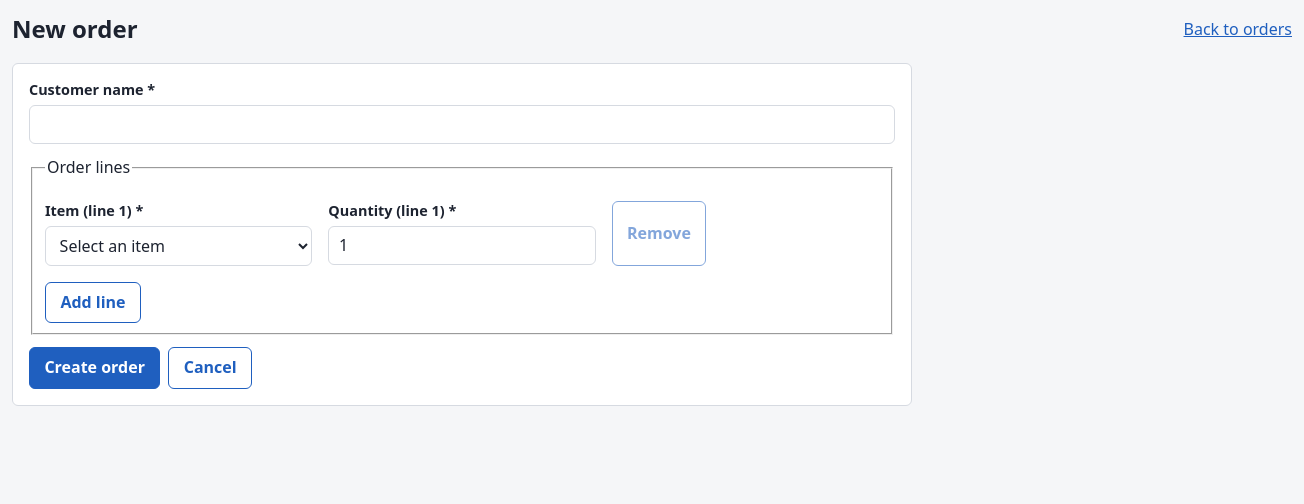
Test case: CreateOrderPage › adds and removes lines, keeping at least one line
Check: the button with aria-label "Remove line 1" is disabled, box x1=612 y1=201 x2=706 y2=266
Click the button "Add line" at (93, 303), box x1=45 y1=282 x2=141 y2=324
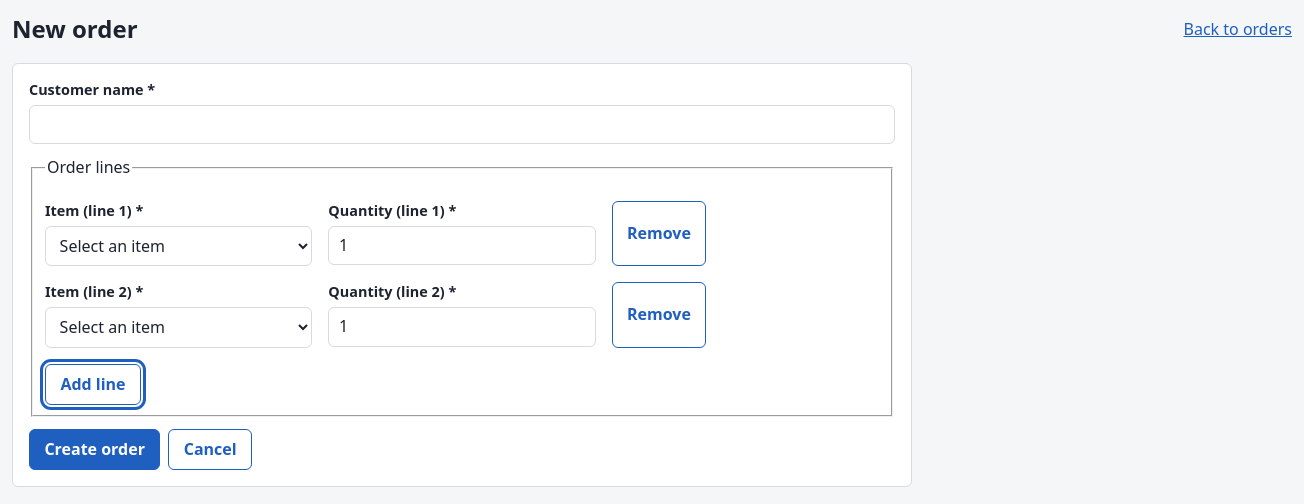
Check: the dropdown labelled "Item (line 2) *" is shown, box x1=45 y1=307 x2=312 y2=348
Click the button with aria-label "Remove line 2" at (659, 315), box x1=612 y1=282 x2=706 y2=348
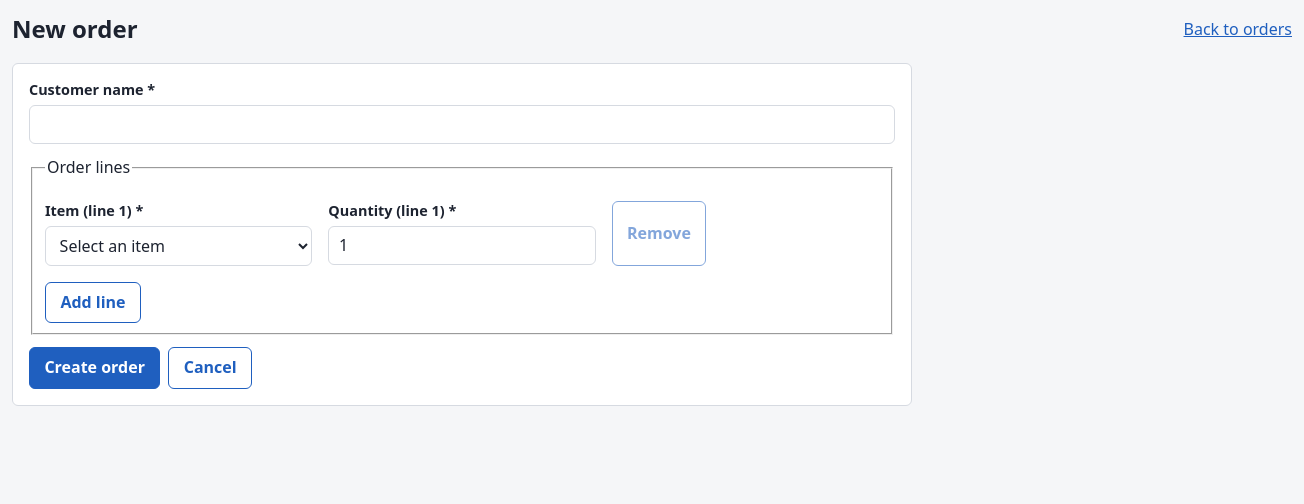
Check: the label labelled "Item (line 2)" is gone
